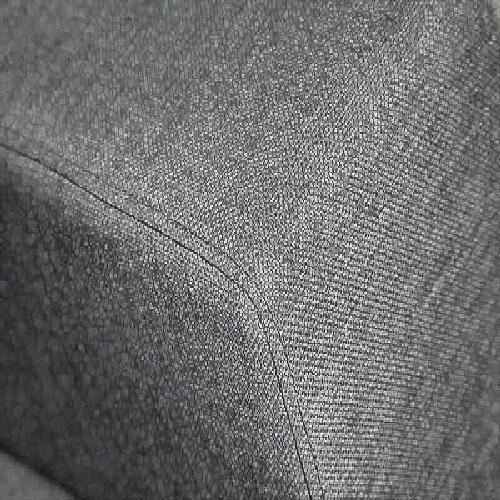sofa: (34, 21, 477, 472)
